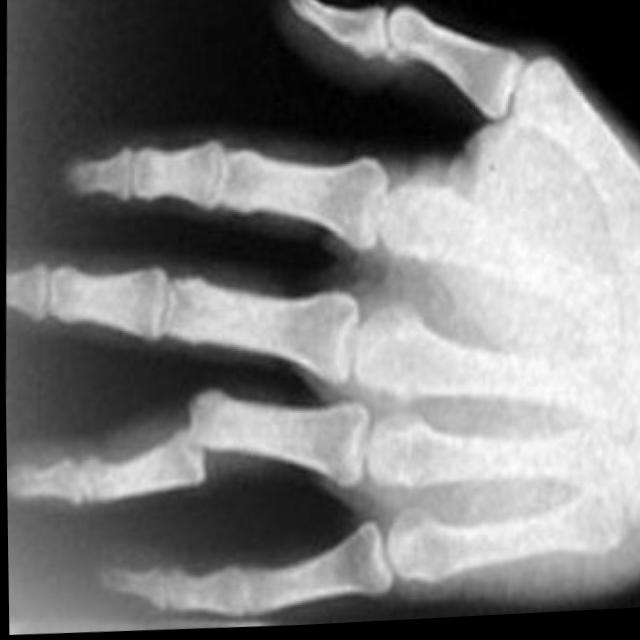fracture: (156, 383, 223, 506)
